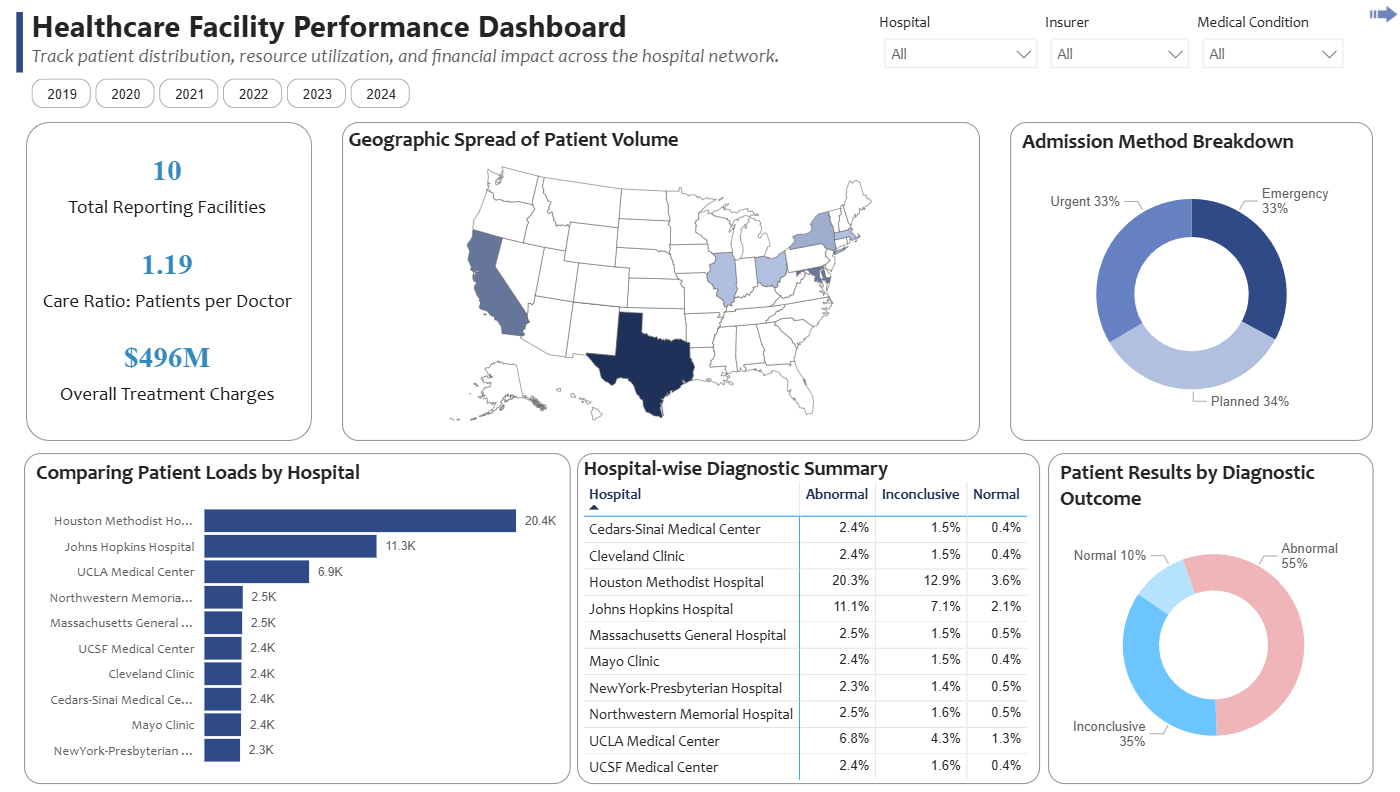

This screenshot's page, from the dashboard's own definition file:
{"tool":"powerbi","page":{"name":"Hospital","canvas":[1280,720],"ordinal":2},"visuals":[{"type":"shape","box":[27,111,260,290],"z":0},{"type":"card","fields":{"Values":["Count(Healthcare.Hospital)"]},"box":[34,123,240,85],"z":0,"group":"g1"},{"type":"textbox","title":"Healthcare Facility Performance Dashboard","box":[27,0,701,66],"z":1000},{"type":"card","fields":{"Values":["Healthcare.Patient_to_Doctor_Ratio"]},"box":[34,208,240,85],"z":1000,"group":"g1"},{"type":"card","fields":{"Values":["Sum(Healthcare.Billing Amount)"]},"box":[34,293,240,85],"z":2000,"group":"g1"},{"type":"barChart","title":"Comparing Patient Loads by Hospital","fields":{"Category":["Healthcare.Hospital"],"Y":["Count(Healthcare.Patient ID)"]},"box":[25,412,497,301],"z":2000},{"type":"pivotTable","title":"Hospital-wise Diagnostic Summary","fields":{"Rows":["Healthcare.Hospital"],"Columns":["Healthcare.Test Results"],"Values":["Healthcare.%Patient"]},"box":[528.5,412,421,301],"z":3000},{"type":"shapeMap","title":"Geographic Spread of Patient Volume","fields":{"Category":["Healthcare.State"],"Value":["Healthcare.Total Patients"]},"box":[314.5,111,580,290],"z":4000},{"type":"donutChart","title":"Admission Method Breakdown","fields":{"Category":["Healthcare.Admission Type"],"Y":["Healthcare.Total Patients"]},"box":[922,111,330,290],"z":5000},{"type":"donutChart","title":"Patient Results by Diagnostic Outcome","fields":{"Category":["Healthcare.Test Results"],"Y":["Healthcare.Total Patients"]},"box":[956,412,296,301],"z":6000},{"type":"advancedSlicerVisual","title":"Filter by year","fields":{"Values":["Healthcare.Start Year.Variation.Date Hierarchy.Year"]},"box":[27,66,359,37],"z":7000},{"type":"shape","box":[15,11,12,55],"z":8000},{"type":"group","id":"g1","title":"Group 1","box":[34,123,240,255],"z":9000},{"type":"image","box":[1243,0,37,26],"z":10000},{"type":"group","id":"g2","title":"Group 4","box":[802,11,429,57],"z":11000},{"type":"slicer","title":"Hospital","fields":{"Values":["Healthcare.Hospital"]},"box":[802,11,151,57],"z":11000,"group":"g2"},{"type":"slicer","title":"Insurer","fields":{"Values":["Healthcare.Insurance Provider"]},"box":[953,11,138,57],"z":12000,"group":"g2"},{"type":"slicer","title":"Medical Condition","fields":{"Values":["Healthcare.Medical Condition"]},"box":[1091,11,140,57],"z":13000,"group":"g2"}]}

Visuals, with their boxes in screenshot pixels (x1, y1, x2, y2), scaled from the page's 1280x720 canvas onto the 1400x792 screenshot:
shape: 30:122:314:441
card - Count(Healthcare.Hospital): 37:135:300:229
"Healthcare Facility Performance Dashboard" textbox: 30:0:796:73
card - Healthcare.Patient_to_Doctor_Ratio: 37:229:300:322
card - Sum(Healthcare.Billing Amount): 37:322:300:416
"Comparing Patient Loads by Hospital" barChart: 27:453:571:784
"Hospital-wise Diagnostic Summary" pivotTable: 578:453:1039:784
"Geographic Spread of Patient Volume" shapeMap: 344:122:978:441
"Admission Method Breakdown" donutChart: 1008:122:1369:441
"Patient Results by Diagnostic Outcome" donutChart: 1046:453:1369:784
"Filter by year" advancedSlicerVisual: 30:73:422:113
shape: 16:12:30:73
"Group 1" group: 37:135:300:416
image: 1360:0:1399:29
"Group 4" group: 877:12:1346:75
"Hospital" slicer: 877:12:1042:75
"Insurer" slicer: 1042:12:1193:75
"Medical Condition" slicer: 1193:12:1346:75
